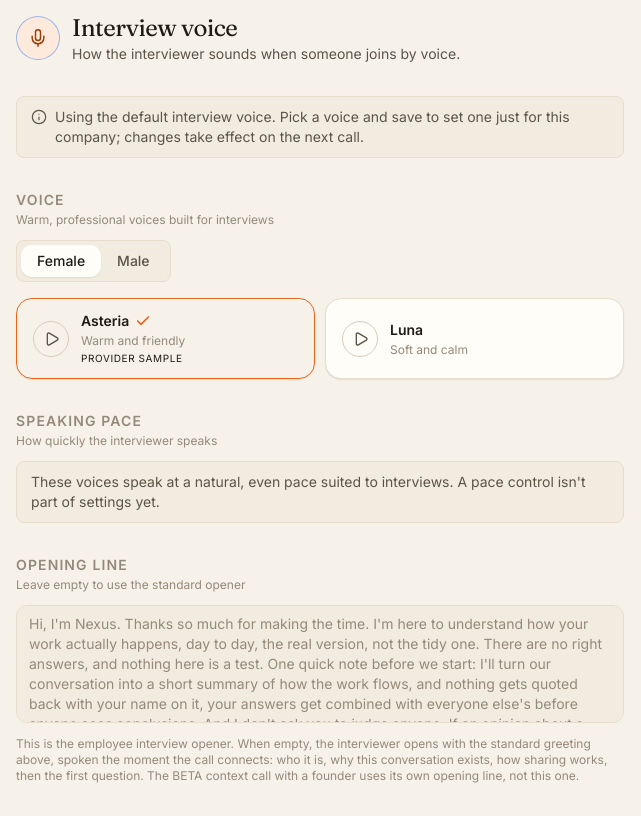
Test case: VoiceSettings › filters voices by the gender toggle
The image size is (641, 816).
Expected: the text "Asteria" is shown, [81,311,129,331]
Expected: the text "Luna" is shown, [390,320,423,340]
Click the button "Male" at (133, 261), box [101,245,166,277]
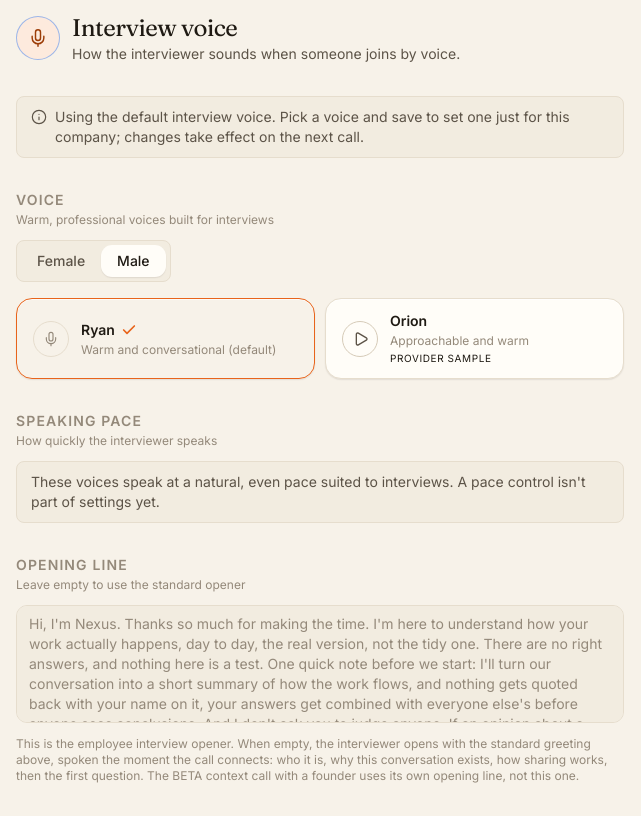
Result: the text "Orion" is shown at [390,311,427,331]
Result: the text "Asteria" is gone
